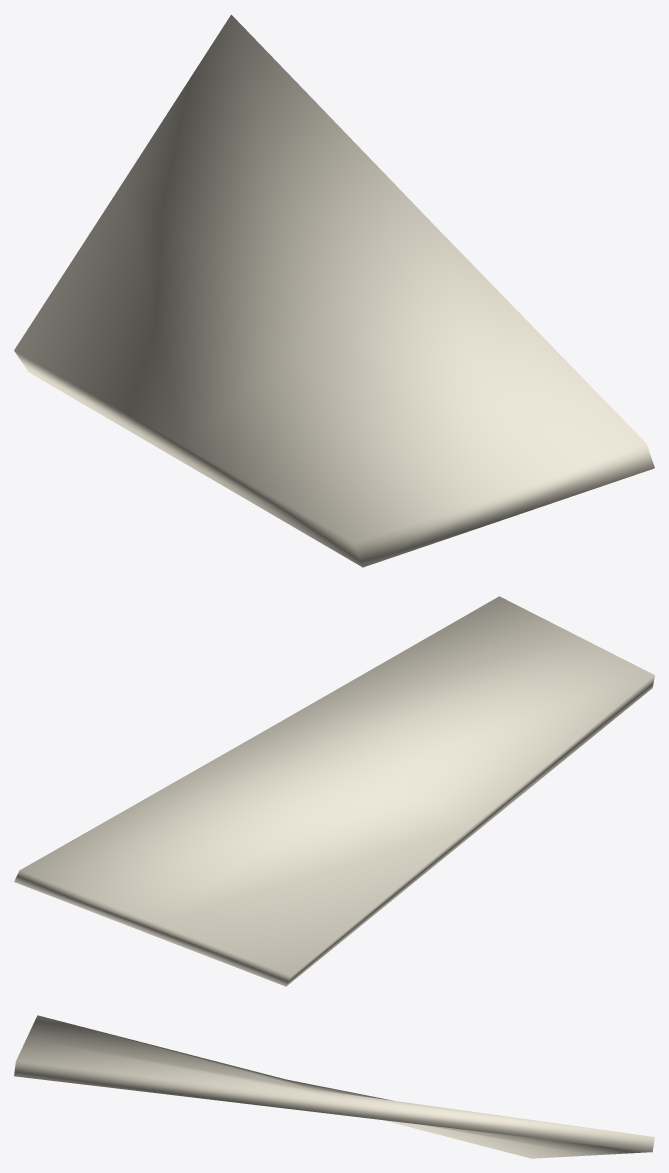
The picture shows the model from 3 angles, top to bottom: view 1: azimuth 30°, elevation 25°; view 2: azimuth 150°, elevation 25°; view 3: azimuth 270°, elevation 25°; orthographic projection. The views are drawn at different scales.
Visible parts, largest first — view 1: ZA_7aa8b2351da7e90a; view 2: ZA_7aa8b2351da7e90a; view 3: ZA_7aa8b2351da7e90a.
Boxes of the visible parts, <box> form: ZA_7aa8b2351da7e90a: <box>14,14,654,567</box>; ZA_7aa8b2351da7e90a: <box>14,596,654,986</box>; ZA_7aa8b2351da7e90a: <box>14,1015,654,1158</box>.
Bounding box in the file's own units: 0.0094 × 0.00478 × 0.0209.
